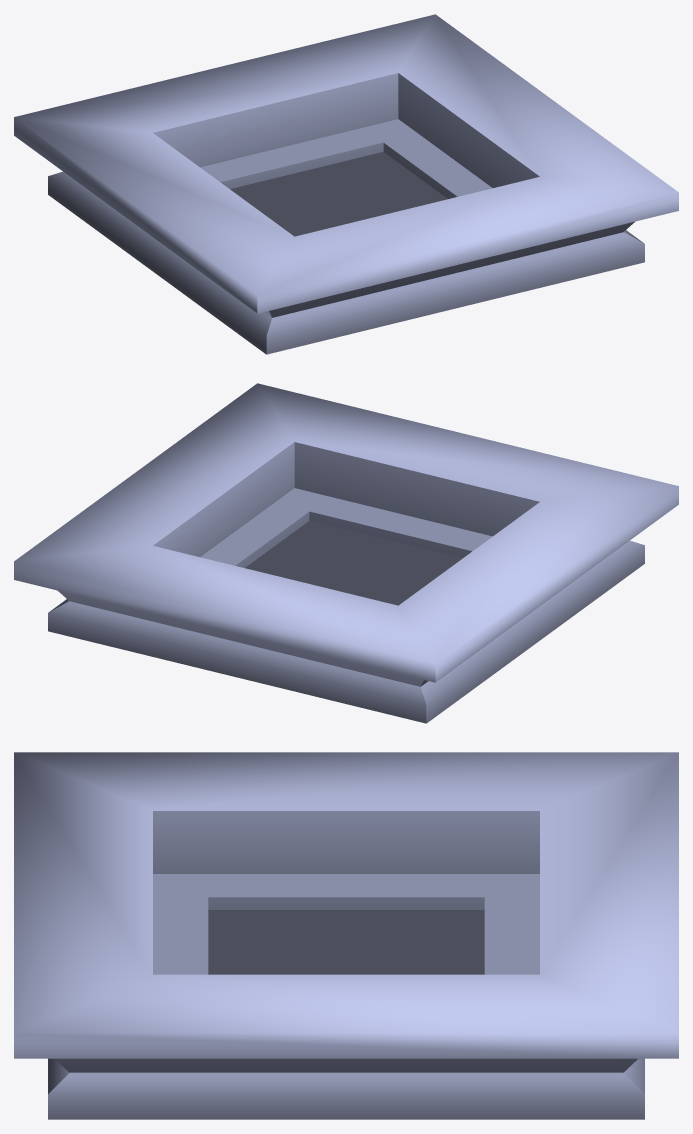
The model's file is building_roof_flat_square.glb.
3 views of the same model, one above another, from view 1: azimuth 30°, elevation 25°; view 2: azimuth 150°, elevation 25°; view 3: azimuth 270°, elevation 25° (orthographic). The views are drawn at different scales.
Visible parts, largest first — view 1: roof-flat-square; view 2: roof-flat-square; view 3: roof-flat-square.
Part boxes in pixels (left/top/right/bottom): roof-flat-square: left=14, top=14, right=678, bottom=354; roof-flat-square: left=14, top=383, right=678, bottom=723; roof-flat-square: left=14, top=752, right=678, bottom=1119.
Bounding box in the file's own units: 2.39 × 0.4 × 2.39.
Materials: 1 (1 with a texture image).
